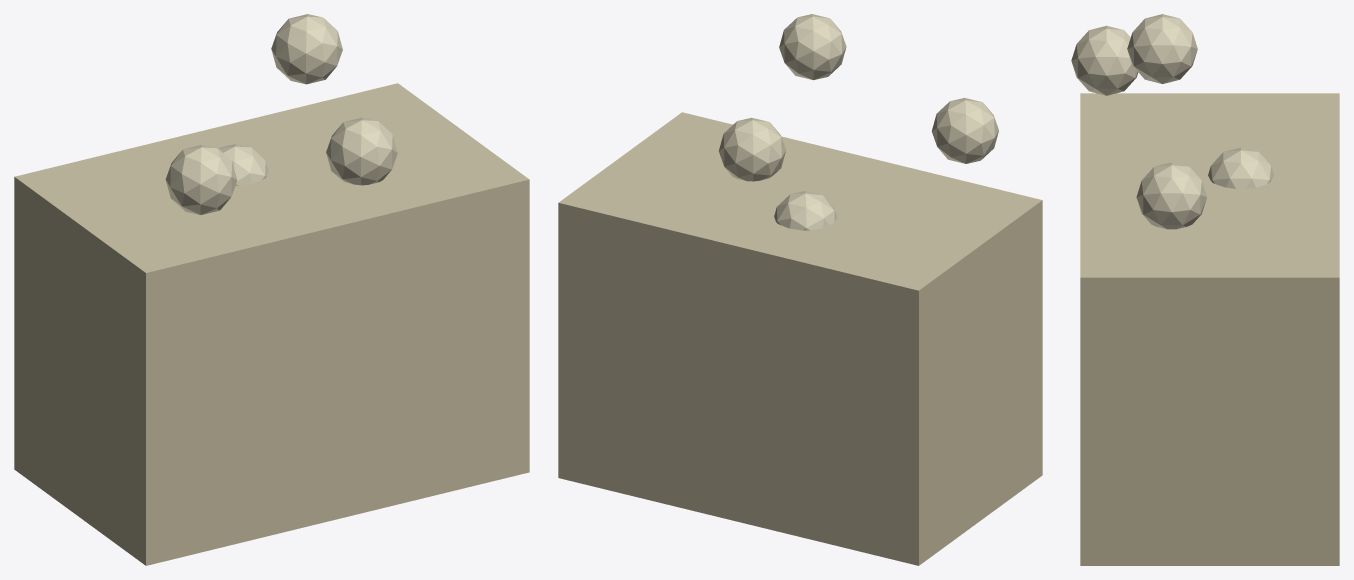
Rendered from origin_wraith.glb.
3 renders of one model, left to right at view 1: azimuth 30°, elevation 25°; view 2: azimuth 150°, elevation 25°; view 3: azimuth 270°, elevation 25°, orthographic. The views are drawn at different scales.
Visible parts, largest first — view 1: geometry_0; view 2: geometry_0; view 3: geometry_0.
Part boxes in pixels (left/top/right/bottom): geometry_0: left=14, top=14, right=529, bottom=565; geometry_0: left=558, top=14, right=1042, bottom=565; geometry_0: left=1071, top=14, right=1339, bottom=565.
Bounding box in the file's own units: 0.74 × 0.8653 × 0.4555.
